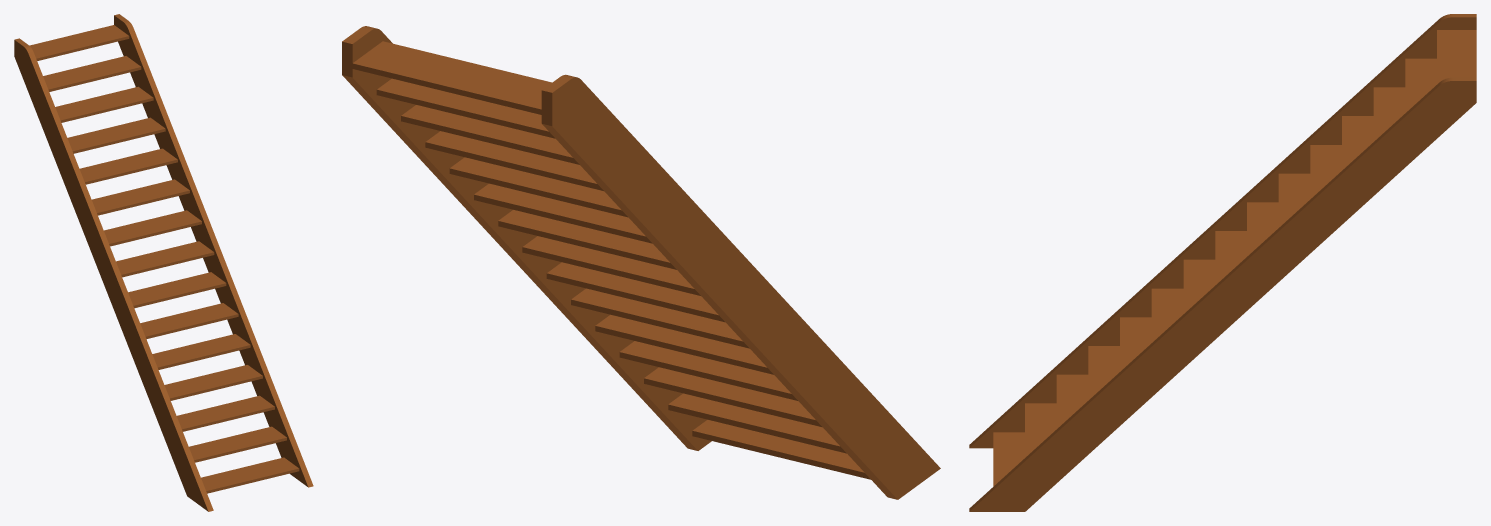
File: Building_Modular_Jetty_Walkway_Timber_Stairs_Tall_01.fbx
3 renders of one model, left to right at view 1: azimuth 30°, elevation 25°; view 2: azimuth 150°, elevation 25°; view 3: azimuth 270°, elevation 25°, orthographic. The views are drawn at different scales.
Parts seen in each view (by area): view 1: Building_Modular_Jetty_Walkway_Timber_Stairs_Tall_01; view 2: Building_Modular_Jetty_Walkway_Timber_Stairs_Tall_01; view 3: Building_Modular_Jetty_Walkway_Timber_Stairs_Tall_01.
Boxes of the visible parts, bbox=[...] form: Building_Modular_Jetty_Walkway_Timber_Stairs_Tall_01: bbox=[14, 14, 313, 511]; Building_Modular_Jetty_Walkway_Timber_Stairs_Tall_01: bbox=[342, 26, 940, 499]; Building_Modular_Jetty_Walkway_Timber_Stairs_Tall_01: bbox=[969, 14, 1476, 511].
Size of the model in its own units: 78.16 by 234 by 250.
